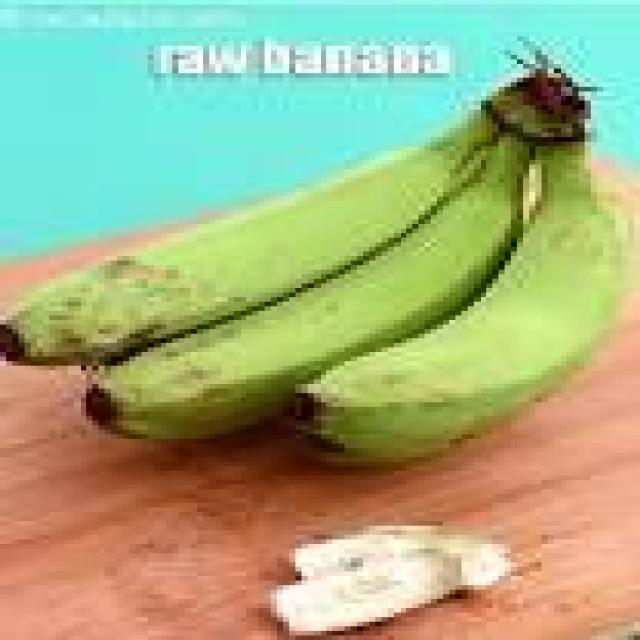banana: (87, 138, 529, 438), (0, 110, 498, 365), (308, 142, 621, 461)
